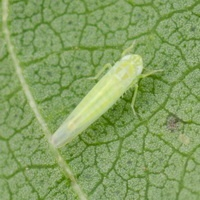insect: (51, 54, 142, 147), (51, 54, 142, 147)
